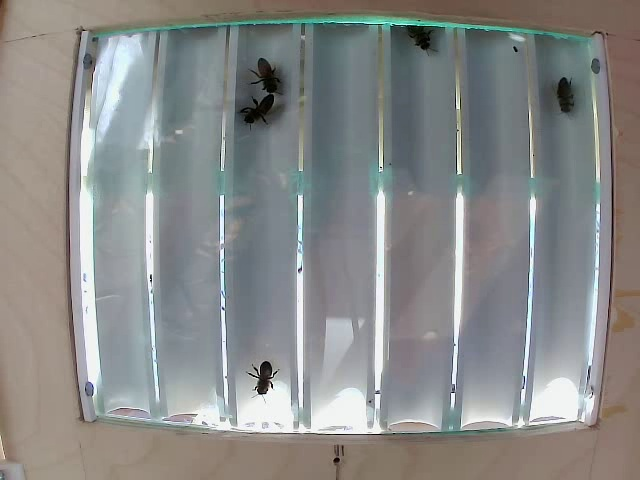bee: (252, 58, 302, 104), (244, 357, 283, 396), (549, 69, 581, 113), (395, 19, 436, 53), (246, 94, 269, 130)
